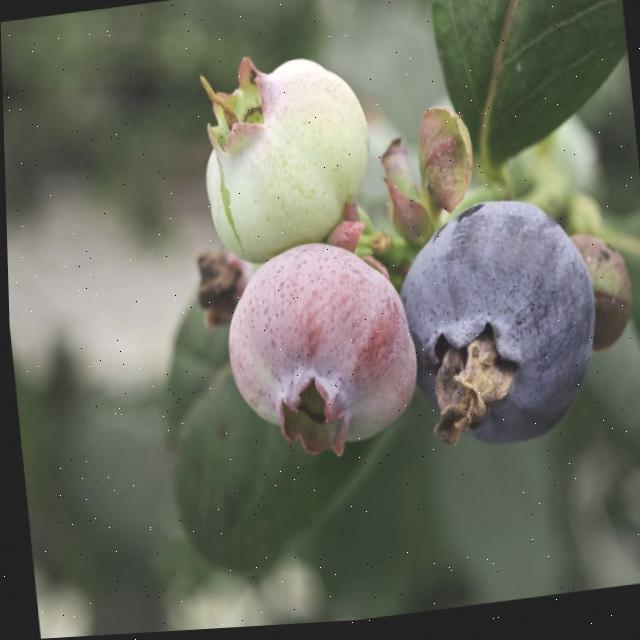RipeBlueBerry: (399, 197, 604, 461)
Semi-RipeBlueBerry: (214, 233, 422, 465)
UnripeBlueBerry: (198, 64, 374, 265)
